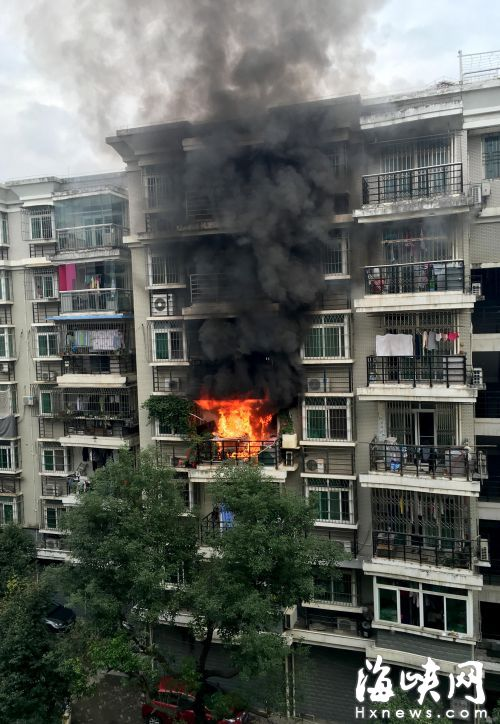fire: (186, 381, 307, 464)
smoke: (115, 17, 352, 365)
